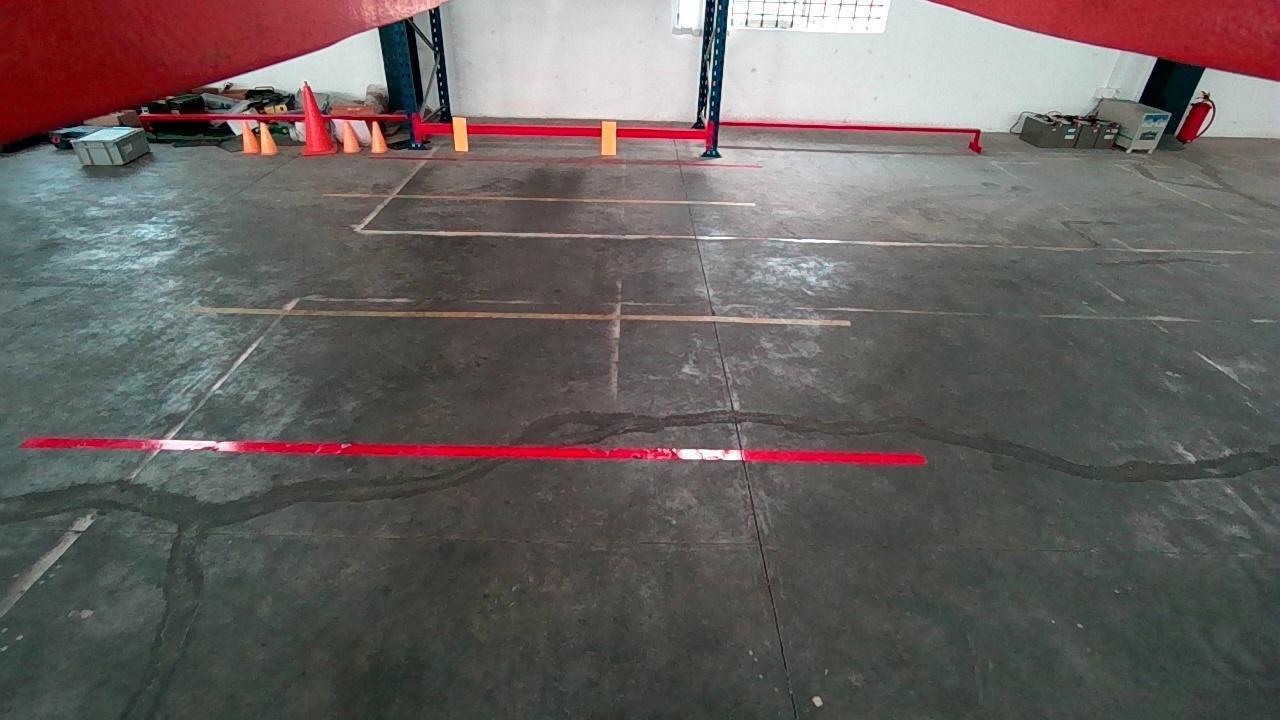h_rack: (427, 123, 706, 140)
orange_strip: (600, 120, 617, 154), (452, 115, 468, 149)
red_line: (22, 434, 928, 468)
yellow_line: (192, 304, 854, 328)
